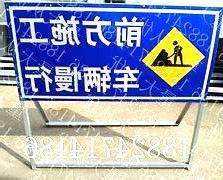sign: (7, 4, 223, 102)
